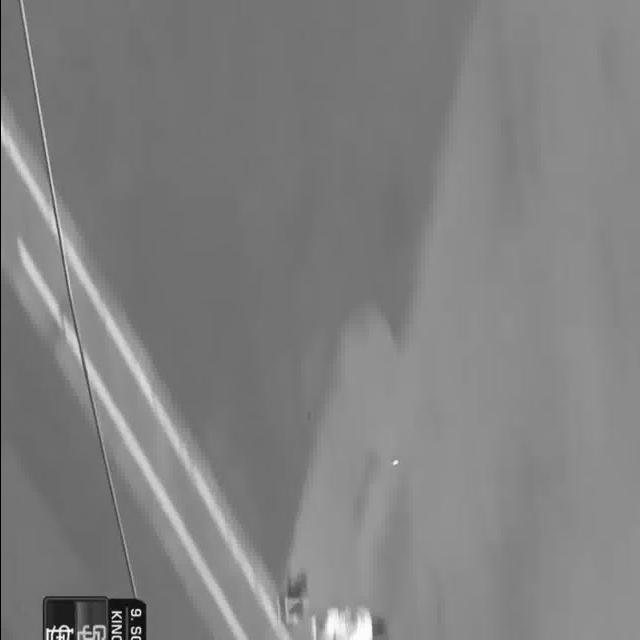baseball: (390, 460, 398, 467)
